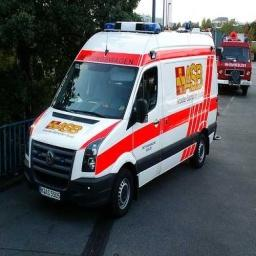ambulance: (25, 22, 217, 216), (217, 31, 251, 94)
